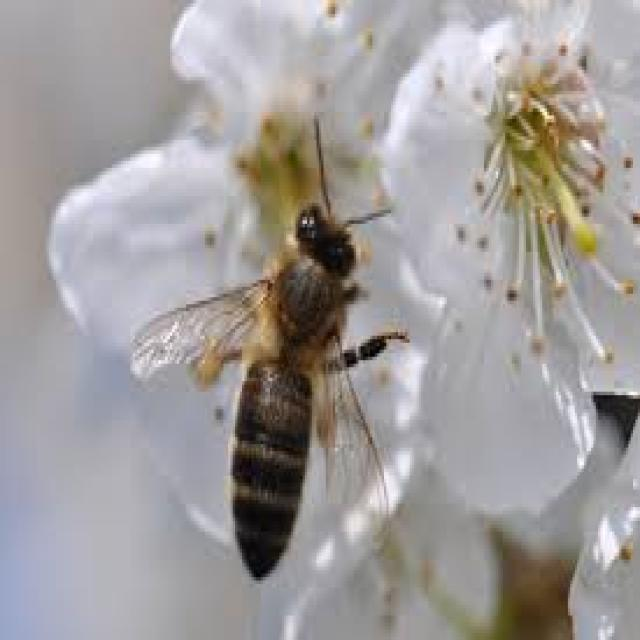Bees: (129, 115, 411, 584)
